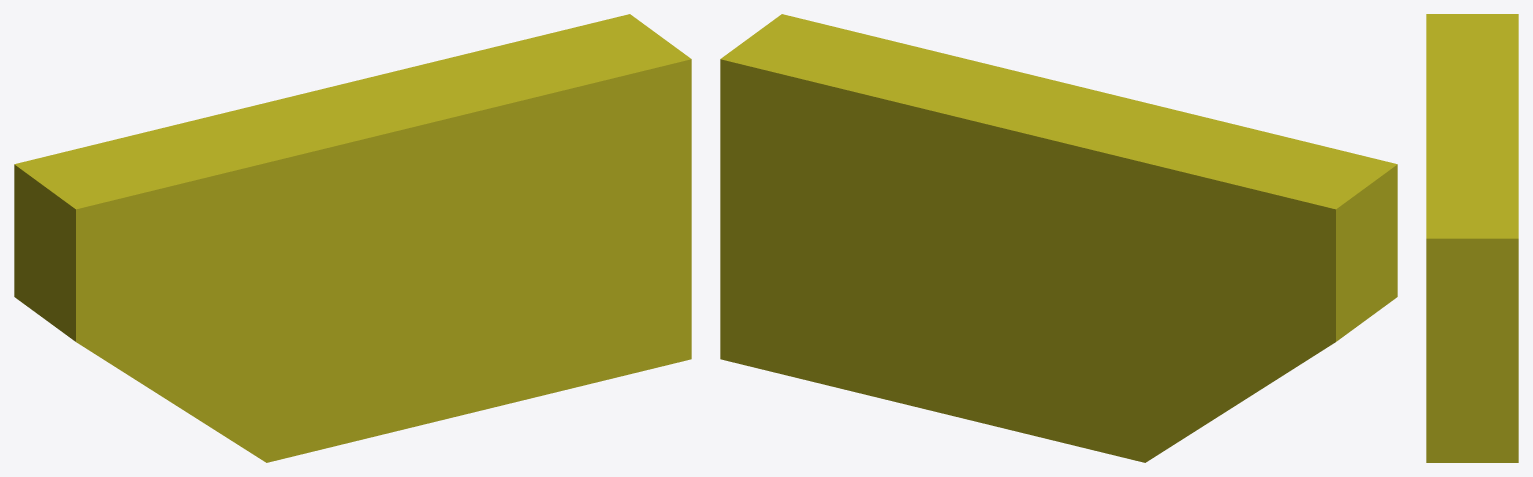
Rendered from DoorV5RightPanelBottomButtonLeft.glb.
3 renders of one model, left to right at view 1: azimuth 30°, elevation 25°; view 2: azimuth 150°, elevation 25°; view 3: azimuth 270°, elevation 25°, orthographic. The views are drawn at different scales.
Visible parts, largest first — view 1: BottomButton.003; view 2: BottomButton.003; view 3: BottomButton.003.
Part boxes in pixels (<box>): BottomButton.003: <box>14,14,691,462</box>; BottomButton.003: <box>720,14,1397,462</box>; BottomButton.003: <box>1426,14,1518,462</box>.
Bounding box in the file's own units: 0.7553 × 0.3517 × 0.1312.
